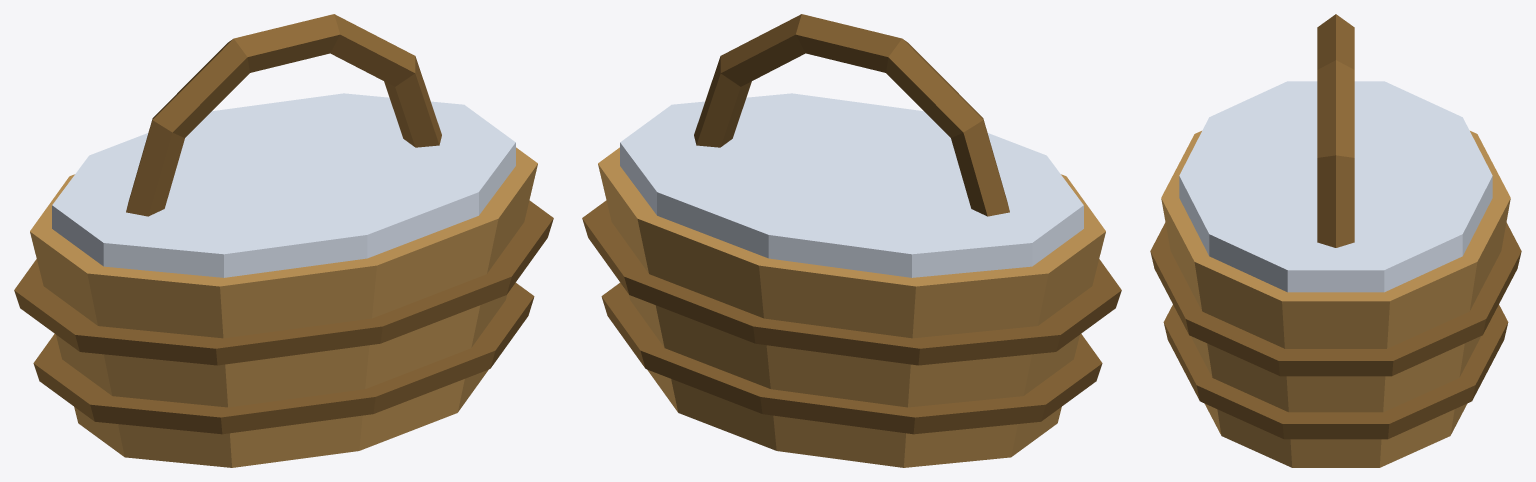
Rendered from prop_basket.glb.
3 renders of one model, left to right at view 1: azimuth 30°, elevation 25°; view 2: azimuth 150°, elevation 25°; view 3: azimuth 270°, elevation 25°, orthographic. The views are drawn at different scales.
Parts seen in each view (by area): view 1: prop_basket; view 2: prop_basket; view 3: prop_basket.
Part boxes in pixels (x1,y1,x2,y2): prop_basket: (14,14,553,467); prop_basket: (582,14,1121,467); prop_basket: (1150,14,1521,467).
Size of the model in its own units: 1.06 by 0.7824 by 0.7582.
